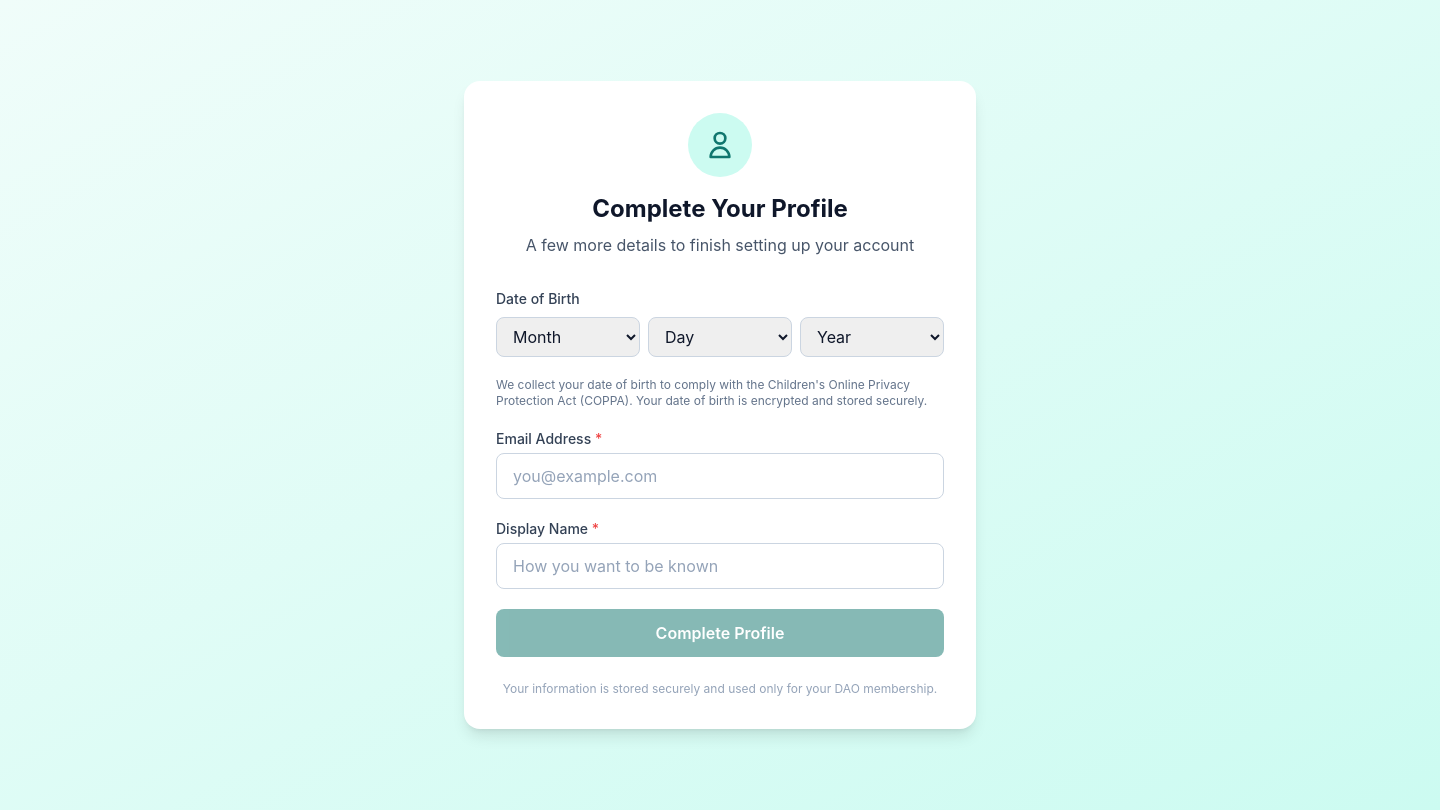
it: CompleteProfile › shows display name validation error when empty
Select "January" in the dropdown named "month" at (568, 337), box [496,317,640,357]
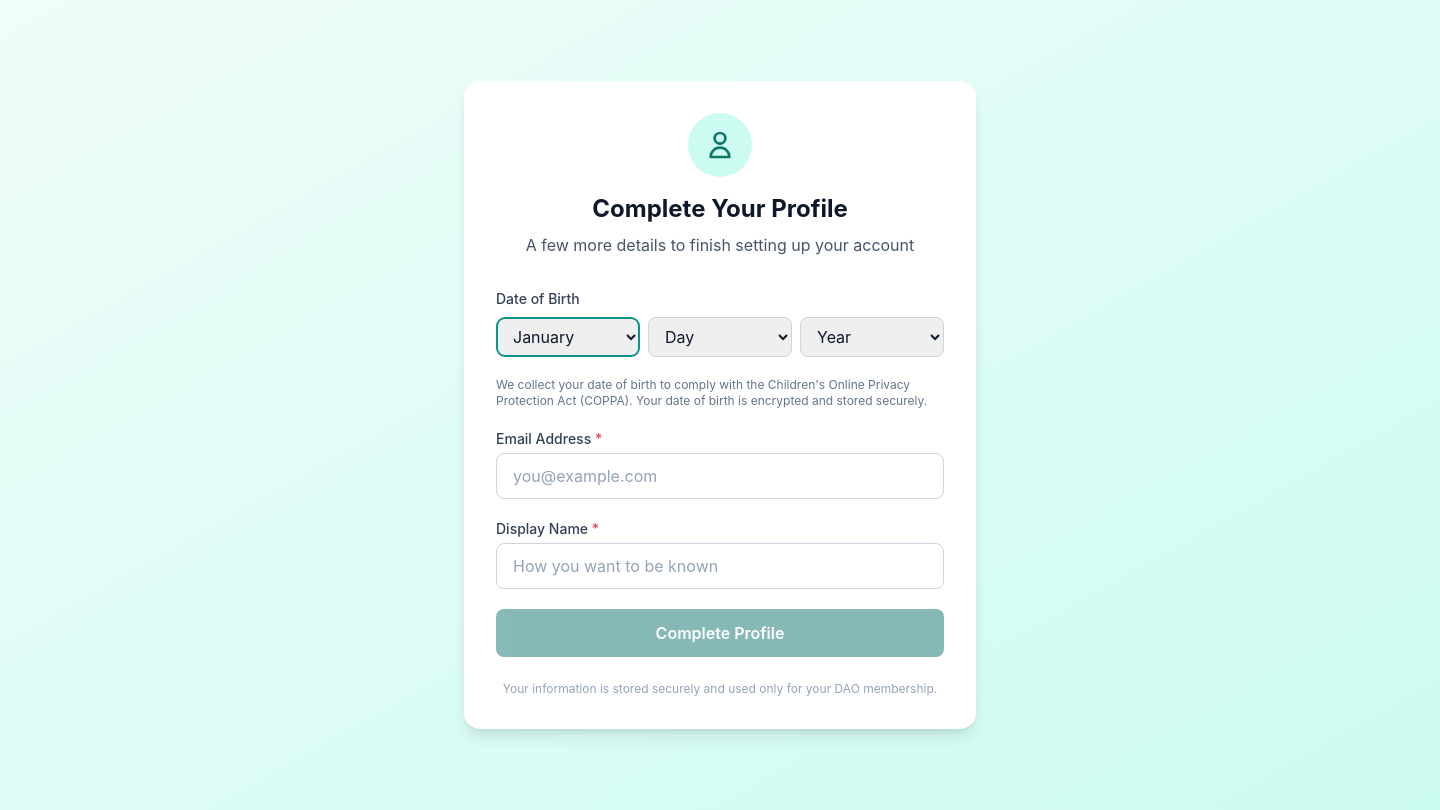
Select "1" in the dropdown named "day" at (720, 337), box [648,317,792,357]
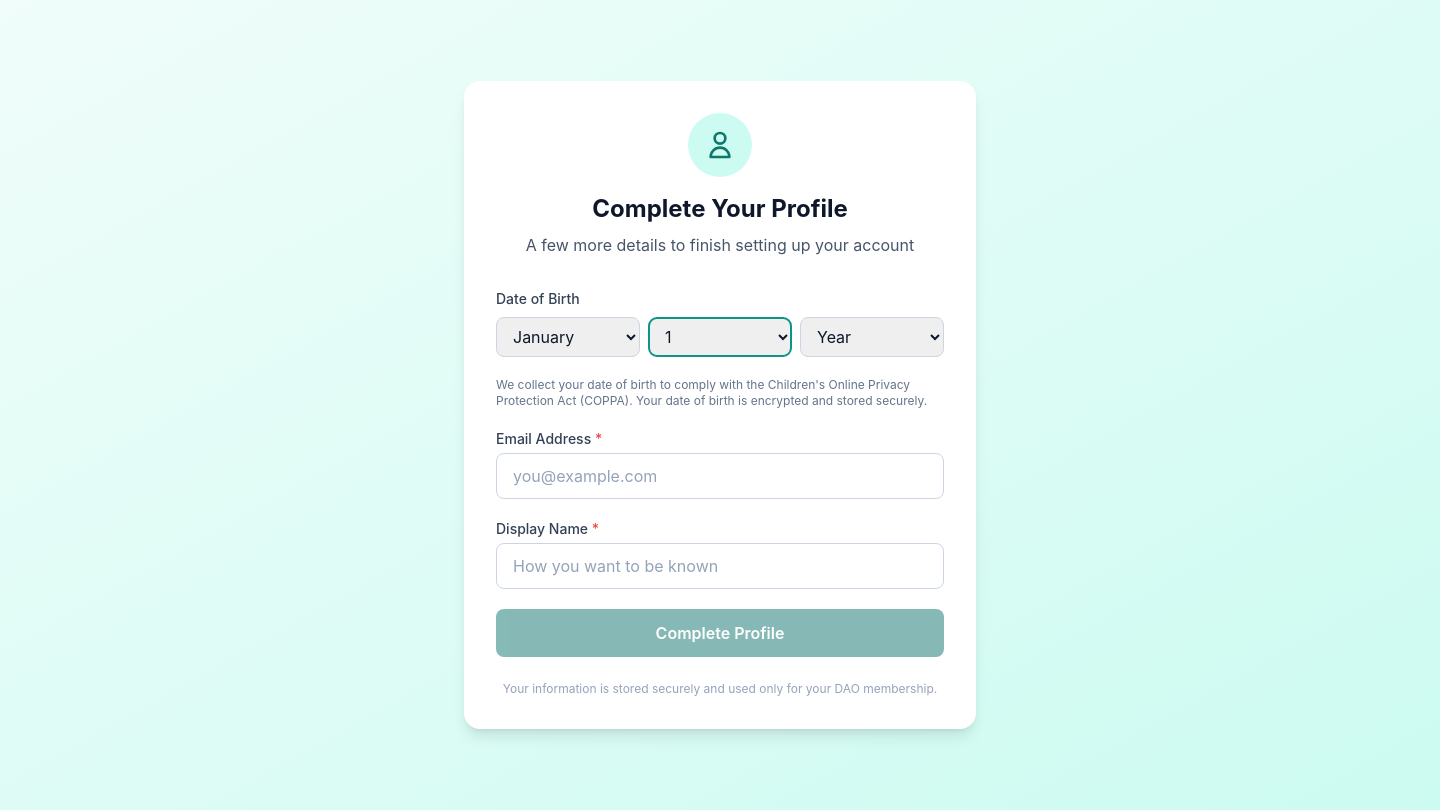
Select "1990" in the dropdown named "year" at (872, 337), box [800,317,944,357]
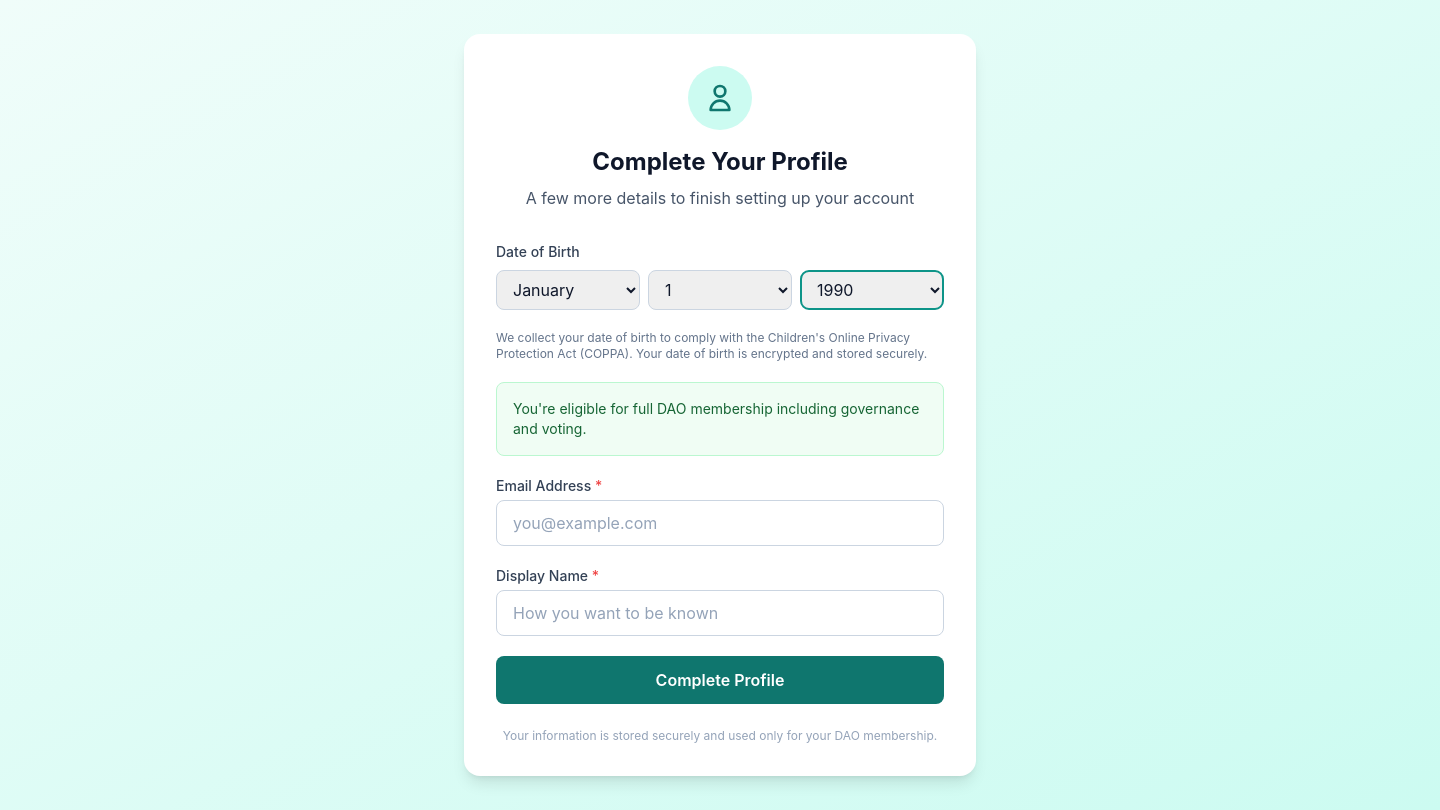
Click the button "Complete Profile" at (720, 680), box [496,656,944,704]
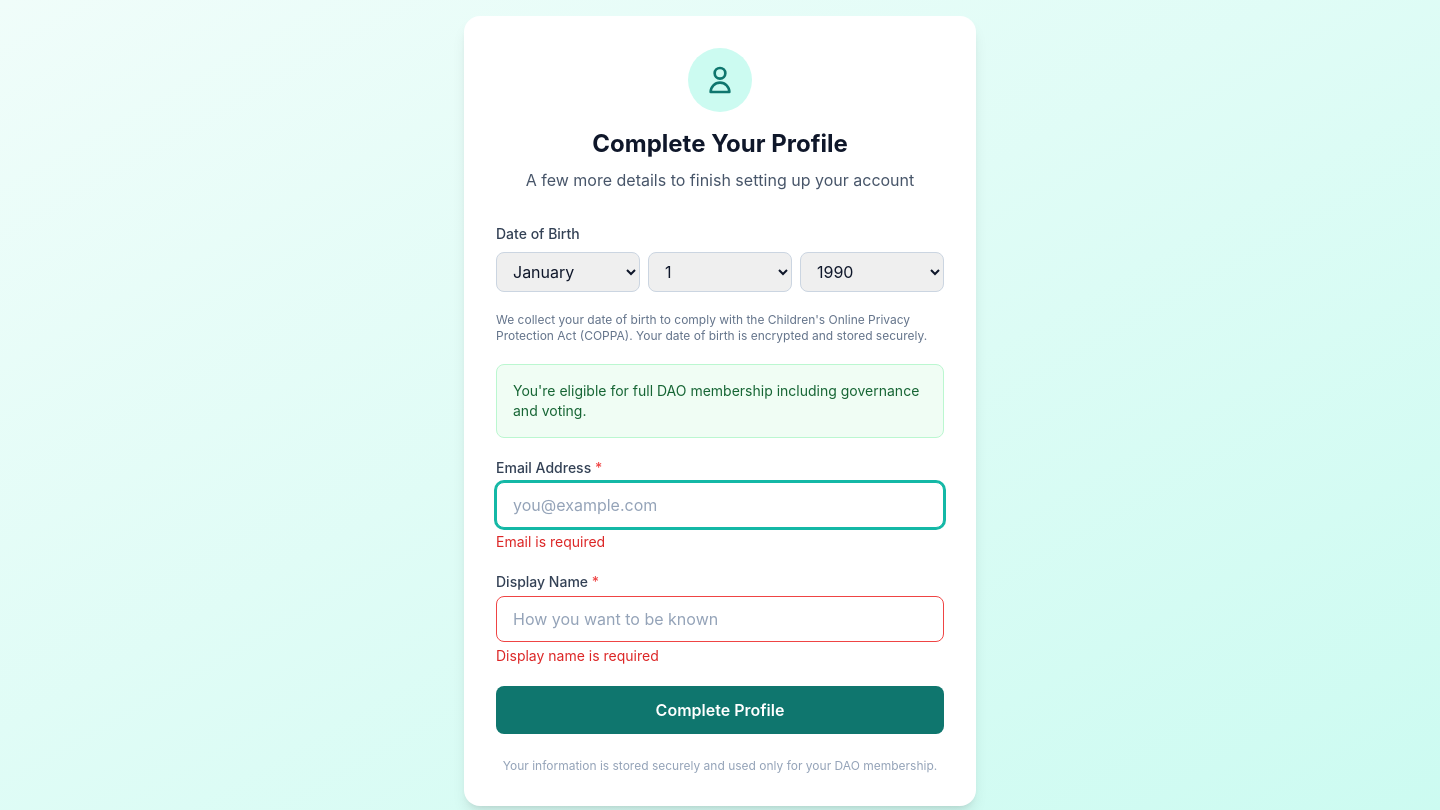
Expected: the text "Display name is required" is shown, [496,647,659,664]
